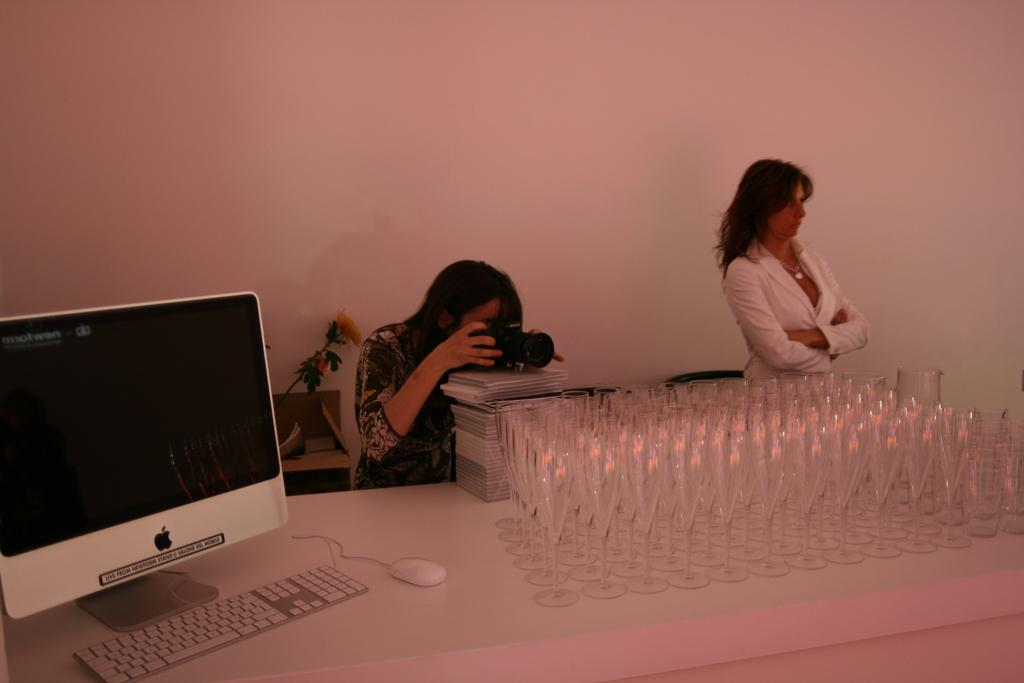Computer-monitor: (1, 286, 292, 632)
